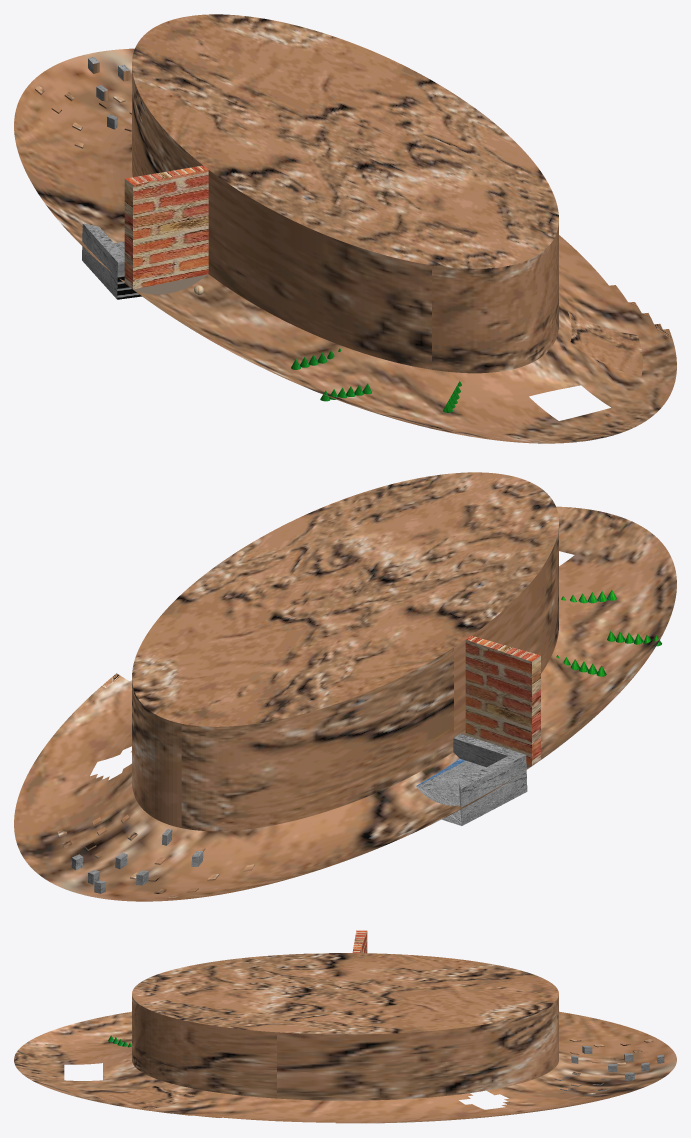
The model's file is speedy_gonzales-CVo_YHz4.glb.
The picture shows the model from 3 angles, top to bottom: view 1: azimuth 30°, elevation 25°; view 2: azimuth 150°, elevation 25°; view 3: azimuth 270°, elevation 25°; orthographic projection. The views are drawn at different scales.
Visible parts, largest first — view 1: course.solid.{}, exit.exit.{}; view 2: course.solid.{}, exit.exit.{}; view 3: course.solid.{}.
Boxes of the visible parts, box(x1,y1,x2,y2) form: course.solid.{}: box(14, 14, 676, 443); exit.exit.{}: box(82, 223, 141, 299); course.solid.{}: box(14, 472, 676, 901); exit.exit.{}: box(416, 733, 527, 825); course.solid.{}: box(14, 930, 676, 1123).
Size of the model in its own units: 92.9 by 27.98 by 206.
1 material, 1 textured.
